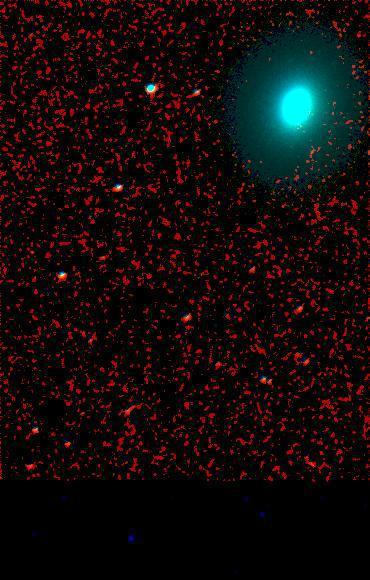star: (16, 236, 46, 266)
